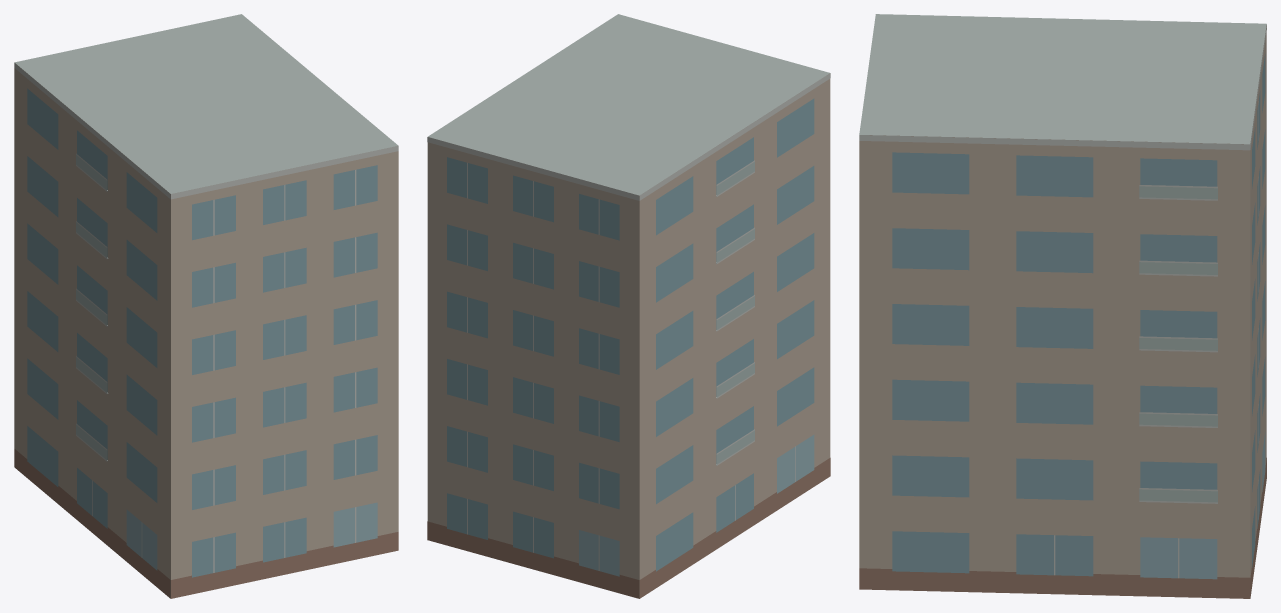
The model's file is survey-upis-32665484.glb.
3 views of the same model, side by side, from view 1: azimuth 30°, elevation 25°; view 2: azimuth 150°, elevation 25°; view 3: azimuth 270°, elevation 25° (orthographic). The views are drawn at different scales.
Visible parts, largest first — view 1: survey-upis-32665484.tmp; view 2: survey-upis-32665484.tmp; view 3: survey-upis-32665484.tmp.
Part boxes in pixels (x1,y1,x2,y2): survey-upis-32665484.tmp: (14,14,398,598); survey-upis-32665484.tmp: (427,14,830,598); survey-upis-32665484.tmp: (859,14,1266,598).
Bounding box in the file's own units: 11.26 × 18.3 × 14.88.
